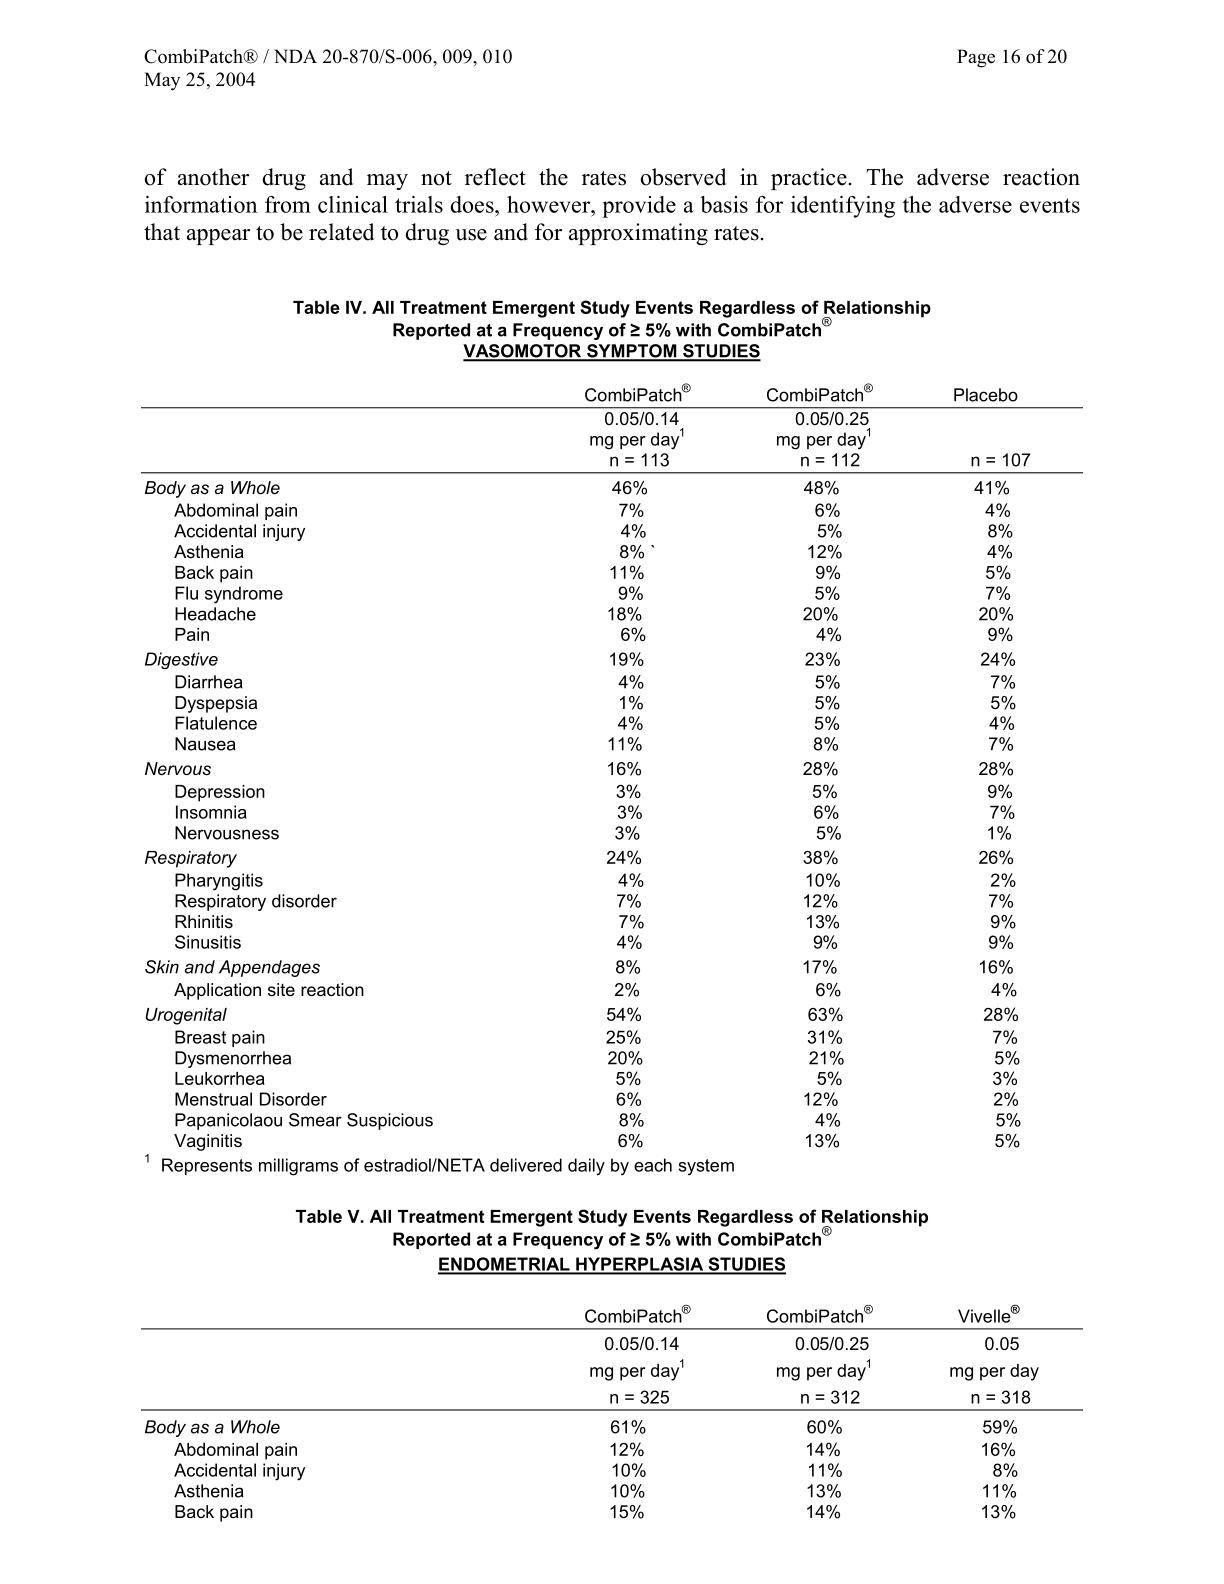partial_lined: (141, 381, 1084, 1152), (135, 1299, 1084, 1524)
